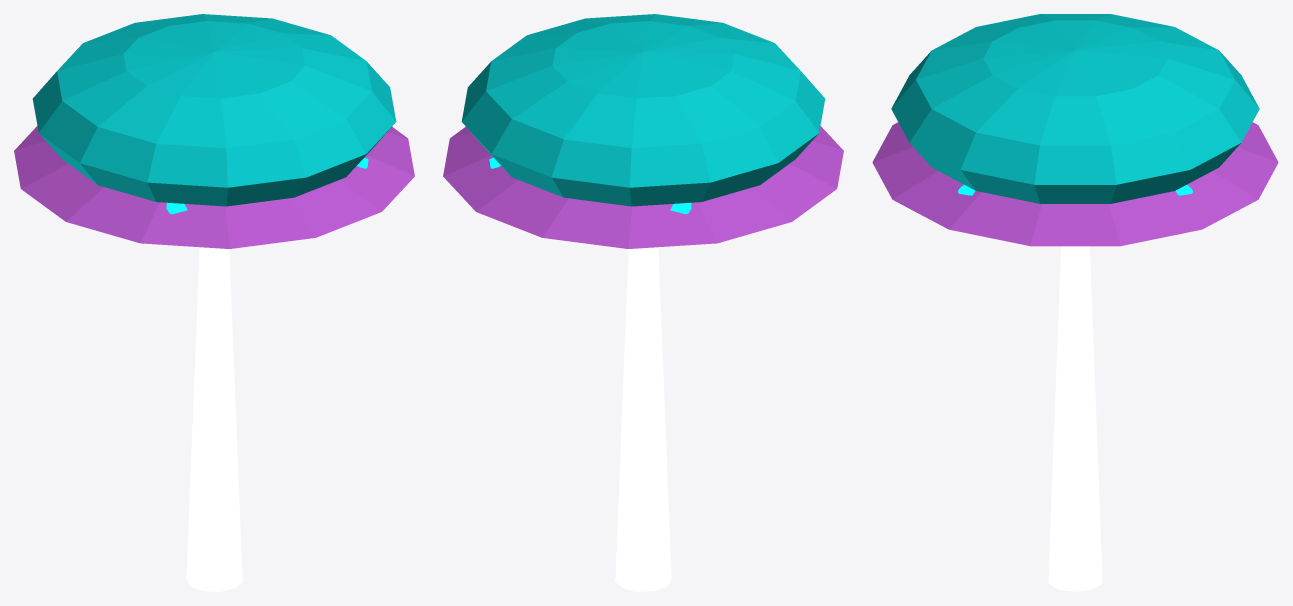
The model's file is alien_mushroom_tree.glb.
3 renders of one model, left to right at view 1: azimuth 30°, elevation 25°; view 2: azimuth 150°, elevation 25°; view 3: azimuth 270°, elevation 25°, orthographic.
Parts seen in each view (by area): view 1: alien_mushroom_tree; view 2: alien_mushroom_tree; view 3: alien_mushroom_tree.
Part boxes in pixels (bbox=[...]): alien_mushroom_tree: bbox=[14, 14, 414, 591]; alien_mushroom_tree: bbox=[443, 14, 843, 591]; alien_mushroom_tree: bbox=[872, 14, 1278, 591].
Bounding box in the file's own units: 1.68 × 2.47 × 1.72.
